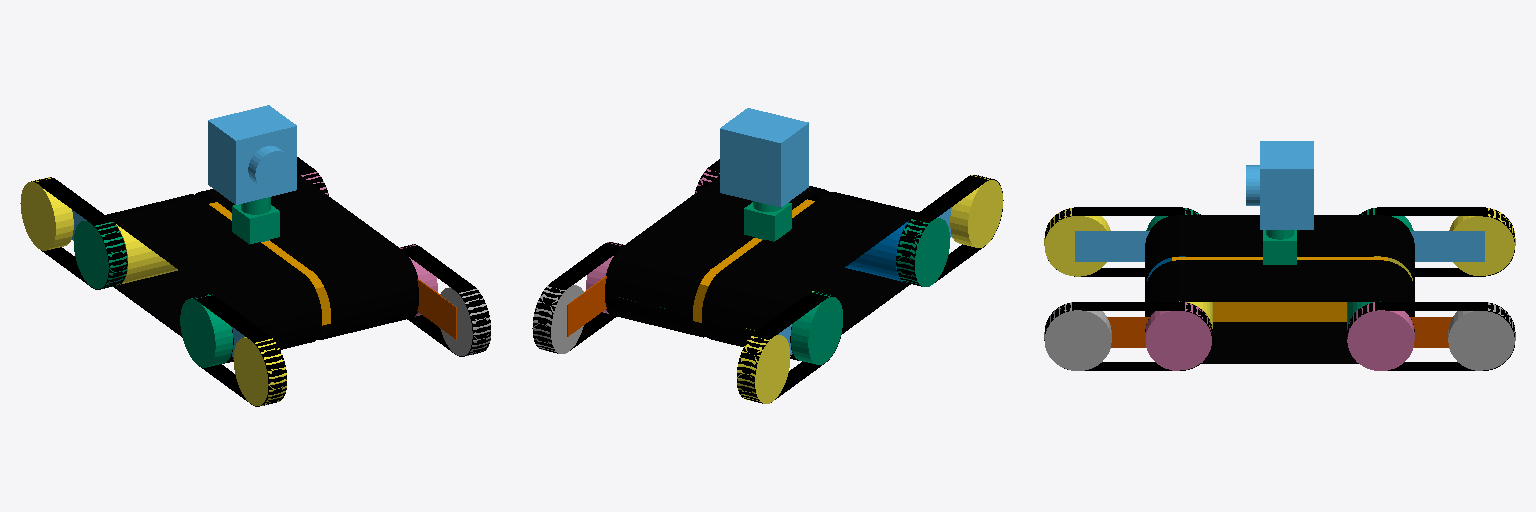
--- Facts derived from the render (not from the file) ---
3 views of the same robot in one strip: view 1: azimuth 30°, elevation 25°; view 2: azimuth 150°, elevation 25°; view 3: azimuth 270°, elevation 25° (orthographic).
Model robot with 33 links and 32 joints (32 fixed), rooted at robot__base_link, posed every joint at zero.
Links seen in each view (by area): view 1: robot__base_link, robot__camera_link, robot__left_front_arm, robot__right_front_arm, robot__right_rear_arm, robot__right_rear_arm_wheel_2, robot__right_front_arm_wheel_1, robot__right_rear_arm_wheel_1, robot__right_front_arm_wheel_2, robot__houkyo_link, robot__left_front_arm_wheel_2, robot__right_rear_wheel; view 2: robot__base_link, robot__camera_link, robot__left_rear_arm, robot__right_rear_arm, robot__right_front_arm, robot__right_front_arm_wheel_2, robot__right_rear_arm_wheel_1, robot__right_front_arm_wheel_1, robot__right_rear_arm_wheel_2, robot__houkyo_link, robot__left_rear_arm_wheel_2, robot__right_front_wheel; view 3: robot__base_link, robot__camera_link, robot__right_rear_arm, robot__right_front_arm, robot__left_rear_arm_wheel_1, robot__left_front_arm_wheel_2, robot__left_rear_arm_wheel_2, robot__left_front_arm_wheel_1, robot__left_front_arm, robot__left_rear_arm, robot__right_front_arm_wheel_2, robot__right_rear_arm_wheel_2 (+1 smaller).
Boxes of the visible links, bbox=[...] form: robot__base_link: bbox=[106, 173, 418, 363]; robot__camera_link: bbox=[208, 105, 296, 204]; robot__left_front_arm: bbox=[401, 244, 490, 356]; robot__right_front_arm: bbox=[193, 294, 286, 406]; robot__right_rear_arm: bbox=[31, 177, 127, 289]; robot__right_rear_arm_wheel_2: bbox=[20, 177, 73, 250]; robot__right_front_arm_wheel_1: bbox=[180, 294, 232, 367]; robot__right_rear_arm_wheel_1: bbox=[74, 220, 127, 288]; robot__right_front_arm_wheel_2: bbox=[233, 337, 286, 405]; robot__houkyo_link: bbox=[232, 197, 279, 244]; robot__left_front_arm_wheel_2: bbox=[440, 287, 490, 355]; robot__right_rear_wheel: bbox=[116, 224, 177, 284]; robot__base_link: bbox=[605, 176, 918, 360]; robot__camera_link: bbox=[720, 108, 808, 207]; robot__left_rear_arm: bbox=[532, 242, 623, 353]; robot__right_rear_arm: bbox=[737, 292, 843, 403]; robot__right_front_arm: bbox=[896, 175, 1003, 286]; robot__right_front_arm_wheel_2: bbox=[950, 175, 1002, 247]; robot__right_rear_arm_wheel_1: bbox=[791, 291, 842, 364]; robot__right_front_arm_wheel_1: bbox=[896, 218, 949, 286]; robot__right_rear_arm_wheel_2: bbox=[737, 335, 790, 403]; robot__houkyo_link: bbox=[744, 201, 791, 241]; robot__left_rear_arm_wheel_2: bbox=[533, 285, 583, 353]; robot__right_front_wheel: bbox=[845, 221, 908, 281]; robot__base_link: bbox=[1145, 215, 1414, 363]; robot__camera_link: bbox=[1246, 141, 1313, 229]; robot__right_rear_arm: bbox=[1359, 207, 1514, 276]; robot__right_front_arm: bbox=[1045, 207, 1200, 276]; robot__left_rear_arm_wheel_1: bbox=[1347, 302, 1414, 370]; robot__left_front_arm_wheel_2: bbox=[1044, 302, 1111, 370]; robot__left_rear_arm_wheel_2: bbox=[1448, 302, 1515, 370]; robot__left_front_arm_wheel_1: bbox=[1145, 302, 1211, 370]; robot__left_front_arm: bbox=[1044, 302, 1212, 370]; robot__left_rear_arm: bbox=[1347, 302, 1515, 370]; robot__right_front_arm_wheel_2: bbox=[1044, 208, 1110, 276]; robot__right_rear_arm_wheel_2: bbox=[1449, 208, 1515, 275].
Bounding box of the posed robot: 0.3622 × 0.7 × 0.271 m (x, y, z).
Meshes: 2 distinct files referenced, 6 mesh visuals loaded (2 Collada DAE).

URDF robot description (robot):
<?xml version="1.0" ?>
<robot name="robot">
  <joint name="robot__camera_joint" type="fixed">
    <parent link="robot__base_link"/>
    <child link="robot__camera_link"/>
    <origin rpy="0    0   -1.57" xyz="0    0    0.22"/>
    <axis xyz="0  0  1"/>
    <limit effort="0.0" lower="0.0" upper="0.0" velocity="0.0"/>
  </joint>
  <joint name="robot__hokuyo_joint" type="fixed">
    <parent link="robot__base_link"/>
    <child link="robot__houkyo_link"/>
    <origin rpy="0    0   -1.57" xyz="0     0     0.135"/>
    <axis xyz="0  0  1"/>
    <limit effort="0.0" lower="0.0" upper="0.0" velocity="0.0"/>
  </joint>
  <joint name="robot__right_rear" type="fixed">
    <parent link="robot__base_link"/>
    <child link="robot__right_rear_wheel"/>
    <origin rpy="3.14159  1.57079  3.14159" xyz="-0.05  0.15  0.05"/>
    <axis xyz="0  0  1"/>
    <limit effort="0" lower="0" upper="0" velocity="0"/>
  </joint>
  <joint name="robot__right_front" type="fixed">
    <parent link="robot__base_link"/>
    <child link="robot__right_front_wheel"/>
    <origin rpy="3.14159  1.57079  3.14159" xyz="-0.05 -0.15  0.05"/>
    <axis xyz="0  0  1"/>
    <limit effort="0" lower="0" upper="0" velocity="0"/>
  </joint>
  <joint name="robot__right_center1" type="fixed">
    <parent link="robot__base_link"/>
    <child link="robot__right_center_wheel_1"/>
    <origin rpy="3.14159  1.57079  3.14159" xyz="-0.05  0.05  0.05"/>
    <axis xyz="0  0  1"/>
    <limit effort="0" lower="0" upper="0" velocity="0"/>
  </joint>
  <joint name="robot__right_center2" type="fixed">
    <parent link="robot__base_link"/>
    <child link="robot__right_center_wheel_2"/>
    <origin rpy="3.14159  1.57079  3.14159" xyz="-0.05   0     0.049"/>
    <axis xyz="0  0  1"/>
    <limit effort="0" lower="0" upper="0" velocity="0"/>
  </joint>
  <joint name="robot__right_center3" type="fixed">
    <parent link="robot__base_link"/>
    <child link="robot__right_center_wheel_3"/>
    <origin rpy="3.14159  1.57079  3.14159" xyz="-0.05 -0.05  0.05"/>
    <axis xyz="0  0  1"/>
    <limit effort="0" lower="0" upper="0" velocity="0"/>
  </joint>
  <joint name="robot__right_sub2" type="fixed">
    <parent link="robot__base_link"/>
    <child link="robot__right_sub_wheel_2"/>
    <origin rpy="3.14159  1.57079  3.14159" xyz="-0.15  0.1   0.05"/>
    <axis xyz="0  0  1"/>
    <limit effort="0" lower="0" upper="0" velocity="0"/>
  </joint>
  <joint name="robot__right_sub3" type="fixed">
    <parent link="robot__base_link"/>
    <child link="robot__right_sub_wheel_3"/>
    <origin rpy="3.14159  1.57079  3.14159" xyz="-0.15 -0.1   0.05"/>
    <axis xyz="0  0  1"/>
    <limit effort="0" lower="0" upper="0" velocity="0"/>
  </joint>
  <joint name="robot__left_rear" type="fixed">
    <parent link="robot__base_link"/>
    <child link="robot__left_rear_wheel"/>
    <origin rpy="3.14159  1.57079  3.14159" xyz="0.05  0.15  0.05"/>
    <axis xyz="0  0  1"/>
    <limit effort="0" lower="0" upper="0" velocity="0"/>
  </joint>
  <joint name="robot__left_front" type="fixed">
    <parent link="robot__base_link"/>
    <child link="robot__left_front_wheel"/>
    <origin rpy="3.14159  1.57079  3.14159" xyz="0.05 -0.15  0.05"/>
    <axis xyz="0  0  1"/>
    <limit effort="0" lower="0" upper="0" velocity="0"/>
  </joint>
  <joint name="robot__left_center1" type="fixed">
    <parent link="robot__base_link"/>
    <child link="robot__left_center_wheel_1"/>
    <origin rpy="3.14159  1.57079  3.14159" xyz="0.05  0.05  0.05"/>
    <axis xyz="0  0  1"/>
    <limit effort="0" lower="0" upper="0" velocity="0"/>
  </joint>
  <joint name="robot__left_center2" type="fixed">
    <parent link="robot__base_link"/>
    <child link="robot__left_center_wheel_2"/>
    <origin rpy="3.14159  1.57079  3.14159" xyz="0.05   0     0.049"/>
    <axis xyz="0  0  1"/>
    <limit effort="0" lower="0" upper="0" velocity="0"/>
  </joint>
  <joint name="robot__left_center3" type="fixed">
    <parent link="robot__base_link"/>
    <child link="robot__left_center_wheel_3"/>
    <origin rpy="3.14159  1.57079  3.14159" xyz="0.05 -0.05  0.05"/>
    <axis xyz="0  0  1"/>
    <limit effort="0" lower="0" upper="0" velocity="0"/>
  </joint>
  <joint name="robot__left_sub2" type="fixed">
    <parent link="robot__base_link"/>
    <child link="robot__left_sub_wheel_2"/>
    <origin rpy="3.14159  1.57079  3.14159" xyz="0.05  0.1   0.05"/>
    <axis xyz="0  0  1"/>
    <limit effort="0" lower="0" upper="0" velocity="0"/>
  </joint>
  <joint name="robot__left_sub3" type="fixed">
    <parent link="robot__base_link"/>
    <child link="robot__left_sub_wheel_3"/>
    <origin rpy="3.14159  1.57079  3.14159" xyz="0.05 -0.1   0.05"/>
    <axis xyz="0  0  1"/>
    <limit effort="0" lower="0" upper="0" velocity="0"/>
  </joint>
  <joint name="robot__left_rear_arm" type="fixed">
    <parent link="robot__base_link"/>
    <child link="robot__left_rear_arm"/>
    <origin rpy="0  0  0" xyz="0.151  0.15   0.051"/>
    <axis xyz="1  0  0"/>
    <limit effort="0.0" lower="0.0" upper="0.0" velocity="1.0"/>
  </joint>
  <joint name="robot__right_rear_arm" type="fixed">
    <parent link="robot__base_link"/>
    <child link="robot__right_rear_arm"/>
    <origin rpy="0  0  0" xyz="-0.151  0.15   0.049"/>
    <axis xyz="1  0  0"/>
    <limit effort="0.0" lower="0.0" upper="0.0" velocity="1.0"/>
  </joint>
  <joint name="robot__left_front_arm" type="fixed">
    <parent link="robot__base_link"/>
    <child link="robot__left_front_arm"/>
    <origin rpy="0  0  0" xyz="0.151 -0.15   0.051"/>
    <axis xyz="1  0  0"/>
    <limit effort="0.0" lower="0.0" upper="0.0" velocity="1.0"/>
  </joint>
  <joint name="robot__right_front_arm" type="fixed">
    <parent link="robot__base_link"/>
    <child link="robot__right_front_arm"/>
    <origin rpy="0  0  0" xyz="-0.151 -0.15   0.049"/>
    <axis xyz="1  0  0"/>
    <limit effort="0.0" lower="0.0" upper="0.0" velocity="1.0"/>
  </joint>
  <joint name="robot__right_rear_arm_wheel_1" type="fixed">
    <parent link="robot__right_rear_arm"/>
    <child link="robot__right_rear_arm_wheel_1"/>
    <origin rpy="3.14159  1.57079  3.14159" xyz="0     0     0.001"/>
    <axis xyz="0  0  1"/>
    <limit effort="0" lower="0" upper="0" velocity="0"/>
  </joint>
  <joint name="robot__right_rear_arm_wheel_2" type="fixed">
    <parent link="robot__right_rear_arm"/>
    <child link="robot__right_rear_arm_wheel_2"/>
    <origin rpy="3.14159  1.57079  3.14159" xyz="0     0.15   0.001"/>
    <axis xyz="0  0  1"/>
    <limit effort="0" lower="0" upper="0" velocity="0"/>
  </joint>
  <joint name="robot__right_rear_arm_wheel_3" type="fixed">
    <parent link="robot__right_rear_arm"/>
    <child link="robot__right_rear_arm_wheel_3"/>
    <origin rpy="3.14159  1.57079  3.14159" xyz="0     0.075  0.001"/>
    <axis xyz="0  0  1"/>
    <limit effort="0" lower="0" upper="0" velocity="0"/>
  </joint>
  <joint name="robot__right_front_arm_wheel_1" type="fixed">
    <parent link="robot__right_front_arm"/>
    <child link="robot__right_front_arm_wheel_1"/>
    <origin rpy="3.14159  1.57079  3.14159" xyz="0     0     0.001"/>
    <axis xyz="0  0  1"/>
    <limit effort="0" lower="0" upper="0" velocity="0"/>
  </joint>
  <joint name="robot__right_front_arm_wheel_2" type="fixed">
    <parent link="robot__right_front_arm"/>
    <child link="robot__right_front_arm_wheel_2"/>
    <origin rpy="3.14159  1.57079  3.14159" xyz="0    -0.15   0.001"/>
    <axis xyz="0  0  1"/>
    <limit effort="0" lower="0" upper="0" velocity="0"/>
  </joint>
  <joint name="robot__right_front_arm_wheel_3" type="fixed">
    <parent link="robot__right_front_arm"/>
    <child link="robot__right_front_arm_wheel_3"/>
    <origin rpy="3.14159  1.57079  3.14159" xyz="0    -0.075  0.001"/>
    <axis xyz="0  0  1"/>
    <limit effort="0" lower="0" upper="0" velocity="0"/>
  </joint>
  <joint name="robot__left_rear_arm_wheel_1" type="fixed">
    <parent link="robot__left_rear_arm"/>
    <child link="robot__left_rear_arm_wheel_1"/>
    <origin rpy="3.14159  1.57079  3.14159" xyz="0     0    -0.001"/>
    <axis xyz="0  0  1"/>
    <limit effort="0" lower="0" upper="0" velocity="0"/>
  </joint>
  <joint name="robot__left_rear_arm_wheel_2" type="fixed">
    <parent link="robot__left_rear_arm"/>
    <child link="robot__left_rear_arm_wheel_2"/>
    <origin rpy="3.14159  1.57079  3.14159" xyz="0     0.15  -0.001"/>
    <axis xyz="0  0  1"/>
    <limit effort="0" lower="0" upper="0" velocity="0"/>
  </joint>
  <joint name="robot__left_rear_arm_wheel_3" type="fixed">
    <parent link="robot__left_rear_arm"/>
    <child link="robot__left_rear_arm_wheel_3"/>
    <origin rpy="3.14159  1.57079  3.14159" xyz="0     0.075 -0.001"/>
    <axis xyz="0  0  1"/>
    <limit effort="0" lower="0" upper="0" velocity="0"/>
  </joint>
  <joint name="robot__left_front_arm_wheel_1" type="fixed">
    <parent link="robot__left_front_arm"/>
    <child link="robot__left_front_arm_wheel_1"/>
    <origin rpy="3.14159  1.57079  3.14159" xyz="0     0    -0.001"/>
    <axis xyz="0  0  1"/>
    <limit effort="0" lower="0" upper="0" velocity="0"/>
  </joint>
  <joint name="robot__left_front_arm_wheel_2" type="fixed">
    <parent link="robot__left_front_arm"/>
    <child link="robot__left_front_arm_wheel_2"/>
    <origin rpy="3.14159  1.57079  3.14159" xyz="0    -0.15  -0.001"/>
    <axis xyz="0  0  1"/>
    <limit effort="0" lower="0" upper="0" velocity="0"/>
  </joint>
  <joint name="robot__left_front_arm_wheel_3" type="fixed">
    <parent link="robot__left_front_arm"/>
    <child link="robot__left_front_arm_wheel_3"/>
    <origin rpy="3.14159  1.57079  3.14159" xyz="0    -0.075 -0.001"/>
    <axis xyz="0  0  1"/>
    <limit effort="0" lower="0" upper="0" velocity="0"/>
  </joint>
  <link name="robot__base_link">
    <inertial>
      <mass value="20"/>
      <origin rpy="0  0  0" xyz="0    0    0.05"/>
      <inertia ixx="1.696e-01" ixy="0" ixz="0" iyy="2.176e-02" iyz="0" izz="1.7984e-01"/>
    </inertial>
    <collision name="robot__collision">
      <origin rpy="0  0  0" xyz="0    0    0.05"/>
      <geometry>
        <box size=".1 .32 .06"/>
      </geometry>
    </collision>
    <visual name="robot__visual">
      <origin rpy="0  0  0" xyz="0    0    0.05"/>
      <geometry>
        <box size=".1 .32 .06"/>
      </geometry>
    </visual>
    <visual name="robot__crawler_visual_R">
      <origin rpy="0       0       1.57079" xyz="-0.08    -0.00075  0.05"/>
      <geometry>
        <mesh filename="package://crawler_robot_ros/meshes/crawler_robot_ros/crawler.dae" scale="1.0 1.0 1.0"/>
      </geometry>
    </visual>
    <visual name="robot__crawler_visual_L">
      <origin rpy="0       0       1.57079" xyz="0.08    -0.00075  0.05"/>
      <geometry>
        <mesh filename="package://crawler_robot_ros/meshes/crawler_robot_ros/crawler.dae" scale="1.0 1.0 1.0"/>
      </geometry>
    </visual>
  </link>
  <link name="robot__camera_link">
    <inertial>
      <mass value="0.1"/>
      <origin rpy="0  0  0" xyz="0  0  0"/>
      <inertia ixx="0.000166667" ixy="0" ixz="0" iyy="0.000166667" iyz="0" izz="0.000166667"/>
    </inertial>
    <collision name="robot__collision-box">
      <origin rpy="0  0  0" xyz="-0.01  0    0"/>
      <geometry>
        <box size="0.08 0.1 0.1"/>
      </geometry>
    </collision>
    <collision name="robot__collision-lens">
      <origin rpy="0    1.57  0" xyz="0.04  0    0"/>
      <geometry>
        <cylinder length="0.02" radius="0.03"/>
      </geometry>
    </collision>
    <visual name="robot__visual-box">
      <origin rpy="0  0  0" xyz="-0.01  0    0"/>
      <geometry>
        <box size="0.08 0.1 0.1"/>
      </geometry>
    </visual>
    <visual name="robot__visual-lens">
      <origin rpy="0    1.57  0" xyz="0.04  0    0"/>
      <geometry>
        <cylinder length="0.02" radius="0.03"/>
      </geometry>
    </visual>
  </link>
  <link name="robot__houkyo_link">
    <inertial>
      <mass value="0.1"/>
      <origin rpy="0  0  0" xyz="0  0  0"/>
      <inertia ixx="0.6205208333e-04" ixy="0" ixz="0" iyy="0.6205208333e-04" iyz="0" izz="4.1927083333e-05"/>
    </inertial>
    <collision name="robot__collision-base">
      <origin rpy="0  0  0" xyz="0      0     -0.0145"/>
      <geometry>
        <box size="0.05 0.05 0.041"/>
      </geometry>
    </collision>
    <collision name="robot__collision-top">
      <origin rpy="0  0  0" xyz="0      0      0.0205"/>
      <geometry>
        <cylinder length="0.029" radius="0.021"/>
      </geometry>
    </collision>
    <visual name="robot__visual-base">
      <origin rpy="0  0  0" xyz="0      0     -0.0145"/>
      <geometry>
        <box size="0.05 0.05 0.041"/>
      </geometry>
    </visual>
    <visual name="robot__visual-top">
      <origin rpy="0  0  0" xyz="0      0      0.0205"/>
      <geometry>
        <cylinder length="0.029" radius="0.021"/>
      </geometry>
    </visual>
  </link>
  <link name="robot__right_rear_wheel">
    <inertial>
      <mass value="1.0"/>
      <origin rpy="0  0  0" xyz="0    0   -0.05"/>
      <inertia ixx="1.3744467859e-03" ixy="0" ixz="0" iyy="1.3744467859e-03" iyz="0" izz="11.780972451e-04"/>
    </inertial>
    <collision name="robot__collision">
      <origin rpy="0  0  0" xyz="0    0   -0.05"/>
      <geometry>
        <cylinder length=".1" radius=".05"/>
      </geometry>
    </collision>
    <visual name="robot__visual">
      <origin rpy="0  0  0" xyz="0    0   -0.05"/>
      <geometry>
        <cylinder length=".1" radius=".05"/>
      </geometry>
    </visual>
  </link>
  <link name="robot__right_front_wheel">
    <inertial>
      <mass value="1.0"/>
      <origin rpy="0  0  0" xyz="0    0   -0.05"/>
      <inertia ixx="1.3744467859e-03" ixy="0" ixz="0" iyy="1.3744467859e-03" iyz="0" izz="11.780972451e-04"/>
    </inertial>
    <collision name="robot__collision">
      <origin rpy="0  0  0" xyz="0    0   -0.05"/>
      <geometry>
        <cylinder length=".1" radius=".05"/>
      </geometry>
    </collision>
    <visual name="robot__visual">
      <origin rpy="0  0  0" xyz="0    0   -0.05"/>
      <geometry>
        <cylinder length=".1" radius=".05"/>
      </geometry>
    </visual>
  </link>
  <link name="robot__right_center_wheel_1">
    <inertial>
      <mass value="1.0"/>
      <origin rpy="0  0  0" xyz="0    0   -0.05"/>
      <inertia ixx="7.5267323992e-04" ixy="0" ixz="0" iyy="7.5267323992e-04" iyz="0" izz="11.2900985988e-04"/>
    </inertial>
    <collision name="robot__collision">
      <origin rpy="0  0  0" xyz="0    0   -0.05"/>
      <geometry>
        <cylinder length=".05" radius=".05"/>
      </geometry>
    </collision>
  </link>
  <link name="robot__right_center_wheel_2">
    <inertial>
      <mass value="1.0"/>
      <origin rpy="0  0  0" xyz="0    0   -0.05"/>
      <inertia ixx="7.5267323992e-04" ixy="0" ixz="0" iyy="7.5267323992e-04" iyz="0" izz="11.2900985988e-04"/>
    </inertial>
    <collision name="robot__collision">
      <origin rpy="0  0  0" xyz="0    0   -0.05"/>
      <geometry>
        <cylinder length=".05" radius=".05"/>
      </geometry>
    </collision>
  </link>
  <link name="robot__right_center_wheel_3">
    <inertial>
      <mass value="1.0"/>
      <origin rpy="0  0  0" xyz="0    0   -0.05"/>
      <inertia ixx="7.5267323992e-04" ixy="0" ixz="0" iyy="7.5267323992e-04" iyz="0" izz="11.2900985988e-04"/>
    </inertial>
    <collision name="robot__collision">
      <origin rpy="0  0  0" xyz="0    0   -0.05"/>
      <geometry>
        <cylinder length=".05" radius=".05"/>
      </geometry>
    </collision>
  </link>
  <link name="robot__right_sub_wheel_2">
    <inertial>
      <mass value="1.0"/>
      <origin rpy="0  0  0" xyz="0    0    0.05"/>
      <inertia ixx="1.3744467859e-03" ixy="0" ixz="0" iyy="1.3744467859e-03" iyz="0" izz="11.780972451e-04"/>
    </inertial>
    <collision name="robot__collision">
      <origin rpy="0  0  0" xyz="0    0    0.05"/>
      <geometry>
        <cylinder length=".1" radius=".05"/>
      </geometry>
    </collision>
  </link>
  <link name="robot__right_sub_wheel_3">
    <inertial>
      <mass value="1.0"/>
      <origin rpy="0  0  0" xyz="0    0    0.05"/>
      <inertia ixx="1.3744467859e-03" ixy="0" ixz="0" iyy="1.3744467859e-03" iyz="0" izz="11.780972451e-04"/>
    </inertial>
    <collision name="robot__collision">
      <origin rpy="0  0  0" xyz="0    0    0.05"/>
      <geometry>
        <cylinder length=".1" radius=".05"/>
      </geometry>
    </collision>
  </link>
  <link name="robot__left_rear_wheel">
    <inertial>
      <mass value="1.0"/>
      <origin rpy="0  0  0" xyz="0    0    0.05"/>
      <inertia ixx="1.3744467859e-03" ixy="0" ixz="0" iyy="1.3744467859e-03" iyz="0" izz="11.780972451e-04"/>
    </inertial>
    <collision name="robot__collision">
      <origin rpy="0  0  0" xyz="0    0    0.05"/>
      <geometry>
        <cylinder length=".1" radius=".05"/>
      </geometry>
    </collision>
    <visual name="robot__visual">
      <origin rpy="0  0  0" xyz="0    0    0.05"/>
      <geometry>
        <cylinder length=".1" radius=".05"/>
      </geometry>
    </visual>
  </link>
  <link name="robot__left_front_wheel">
    <inertial>
      <mass value="1.0"/>
      <origin rpy="0  0  0" xyz="0    0    0.05"/>
      <inertia ixx="1.3744467859e-03" ixy="0" ixz="0" iyy="1.3744467859e-03" iyz="0" izz="11.780972451e-04"/>
    </inertial>
    <collision name="robot__collision">
      <origin rpy="0  0  0" xyz="0    0    0.05"/>
      <geometry>
        <cylinder length=".1" radius=".05"/>
      </geometry>
    </collision>
    <visual name="robot__visual">
      <origin rpy="0  0  0" xyz="0    0    0.05"/>
      <geometry>
        <cylinder length=".1" radius=".05"/>
      </geometry>
    </visual>
  </link>
  <link name="robot__left_center_wheel_1">
    <inertial>
      <mass value="1.0"/>
      <origin rpy="0  0  0" xyz="0    0    0.05"/>
      <inertia ixx="7.5267323992e-04" ixy="0" ixz="0" iyy="7.5267323992e-04" iyz="0" izz="11.2900985988e-04"/>
    </inertial>
    <collision name="robot__collision">
      <origin rpy="0  0  0" xyz="0    0    0.05"/>
      <geometry>
        <cylinder length=".05" radius=".05"/>
      </geometry>
    </collision>
  </link>
  <link name="robot__left_center_wheel_2">
    <inertial>
      <mass value="1.0"/>
      <origin rpy="0  0  0" xyz="0    0    0.05"/>
      <inertia ixx="7.5267323992e-04" ixy="0" ixz="0" iyy="7.5267323992e-04" iyz="0" izz="11.2900985988e-04"/>
    </inertial>
    <collision name="robot__collision">
      <origin rpy="0  0  0" xyz="0    0    0.05"/>
      <geometry>
        <cylinder length=".05" radius=".05"/>
      </geometry>
    </collision>
  </link>
  <link name="robot__left_center_wheel_3">
    <inertial>
      <mass value="1.0"/>
      <origin rpy="0  0  0" xyz="0    0    0.05"/>
      <inertia ixx="7.5267323992e-04" ixy="0" ixz="0" iyy="7.5267323992e-04" iyz="0" izz="11.2900985988e-04"/>
    </inertial>
    <collision name="robot__collision">
      <origin rpy="0  0  0" xyz="0    0    0.05"/>
      <geometry>
        <cylinder length=".05" radius=".05"/>
      </geometry>
    </collision>
  </link>
  <link name="robot__left_sub_wheel_2">
    <inertial>
      <mass value="1.0"/>
      <origin rpy="0  0  0" xyz="0    0    0.05"/>
      <inertia ixx="1.3744467859e-03" ixy="0" ixz="0" iyy="1.3744467859e-03" iyz="0" izz="11.780972451e-04"/>
    </inertial>
    <collision name="robot__collision">
      <origin rpy="0  0  0" xyz="0    0    0.05"/>
      <geometry>
        <cylinder length=".1" radius=".05"/>
      </geometry>
    </collision>
  </link>
  <link name="robot__left_sub_wheel_3">
    <inertial>
      <mass value="1.0"/>
      <origin rpy="0  0  0" xyz="0    0    0.05"/>
      <inertia ixx="1.3744467859e-03" ixy="0" ixz="0" iyy="1.3744467859e-03" iyz="0" izz="11.780972451e-04"/>
    </inertial>
    <collision name="robot__collision">
      <origin rpy="0  0  0" xyz="0    0    0.05"/>
      <geometry>
        <cylinder length=".1" radius=".05"/>
      </geometry>
    </collision>
  </link>
  <link name="robot__right_rear_arm">
    <inertial>
      <mass value="1.0"/>
      <origin rpy="1.57  0    1.57" xyz="-0.015  0.075  0.001"/>
      <inertia ixx="6.8125e-4" ixy="0" ixz="0" iyy="3.96253e-3" iyz="0" izz="4.53125e-3"/>
    </inertial>
    <visual name="robot__visual">
      <origin rpy="0  0  0" xyz="0     0.075  0.001"/>
      <geometry>
        <box size=".002 .16 .05"/>
      </geometry>
    </visual>
    <visual name="robot__crawler_visual">
      <origin rpy="0    0    1.57" xyz="-0.015  0.075 -0.049"/>
      <geometry>
        <mesh filename="package://crawler_robot_ros/meshes/crawler_robot_ros/arm_crawler_2.dae" scale="1.0 1.0 1.0"/>
      </geometry>
    </visual>
  </link>
  <link name="robot__right_rear_arm_wheel_1">
    <inertial>
      <mass value="1.0"/>
      <origin rpy="0  0  0" xyz="0     0    -0.015"/>
      <inertia ixx="6.2674773439e-04" ixy="0" ixz="0" iyy="6.2674773439e-04" iyz="0" izz="11.1919238284e-04"/>
    </inertial>
    <collision name="robot__collision">
      <origin rpy="0  0  0" xyz="0     0    -0.015"/>
      <geometry>
        <cylinder length=".03" radius=".05"/>
      </geometry>
    </collision>
    <visual name="robot__visual">
      <origin rpy="0  0  0" xyz="0     0    -0.015"/>
      <geometry>
        <cylinder length=".03" radius=".05"/>
      </geometry>
    </visual>
  </link>
  <link name="robot__right_rear_arm_wheel_2">
    <inertial>
      <mass value="1.0"/>
      <origin rpy="0  0  0" xyz="0     0    -0.015"/>
      <inertia ixx="6.2674773439e-04" ixy="0" ixz="0" iyy="6.2674773439e-04" iyz="0" izz="11.1919238284e-04"/>
    </inertial>
    <collision name="robot__collision">
      <origin rpy="0  0  0" xyz="0     0    -0.015"/>
      <geometry>
        <cylinder length=".03" radius=".05"/>
      </geometry>
    </collision>
    <visual name="robot__visual">
      <origin rpy="0  0  0" xyz="0     0    -0.015"/>
      <geometry>
        <cylinder length=".03" radius=".05"/>
      </geometry>
    </visual>
  </link>
  <link name="robot__right_rear_arm_wheel_3">
    <inertial>
      <mass value="1.0"/>
      <origin rpy="0  0  0" xyz="0     0    -0.015"/>
      <inertia ixx="6.2674773439e-04" ixy="0" ixz="0" iyy="6.2674773439e-04" iyz="0" izz="11.1919238284e-04"/>
    </inertial>
    <collision name="robot__collision">
      <origin rpy="0  0  0" xyz="0     0    -0.015"/>
      <geometry>
        <cylinder length=".03" radius=".05"/>
      </geometry>
    </collision>
  </link>
  <link name="robot__left_rear_arm">
    <inertial>
      <mass value="1.0"/>
      <origin rpy="1.57  0    1.57" xyz="0.015  0.075 -0.001"/>
      <inertia ixx="6.8125e-4" ixy="0" ixz="0" iyy="3.96253e-3" iyz="0" izz="4.53125e-3"/>
    </inertial>
    <visual name="robot__visual">
      <origin rpy="0  0  0" xyz="0     0.075 -0.001"/>
      <geometry>
        <box size=".002 .16 .05"/>
      </geometry>
    </visual>
    <visual name="robot__crawler_visual">
      <origin rpy="0    0    1.57" xyz="0.015  0.075 -0.051"/>
      <geometry>
        <mesh filename="package://crawler_robot_ros/meshes/crawler_robot_ros/arm_crawler_2.dae" scale="1.0 1.0 1.0"/>
      </geometry>
    </visual>
  </link>
  <link name="robot__left_rear_arm_wheel_1">
    <inertial>
      <mass value="1.0"/>
      <origin rpy="0  0  0" xyz="0     0     0.015"/>
      <inertia ixx="6.2674773439e-04" ixy="0" ixz="0" iyy="6.2674773439e-04" iyz="0" izz="11.1919238284e-04"/>
    </inertial>
    <collision name="robot__collision">
      <origin rpy="0  0  0" xyz="0     0     0.015"/>
      <geometry>
        <cylinder length=".03" radius=".05"/>
      </geometry>
    </collision>
    <visual name="robot__visual">
      <origin rpy="0  0  0" xyz="0     0     0.015"/>
      <geometry>
        <cylinder length=".03" radius=".05"/>
      </geometry>
    </visual>
  </link>
  <link name="robot__left_rear_arm_wheel_2">
    <inertial>
      <mass value="1.0"/>
      <origin rpy="0  0  0" xyz="0     0     0.015"/>
      <inertia ixx="6.2674773439e-04" ixy="0" ixz="0" iyy="6.2674773439e-04" iyz="0" izz="11.1919238284e-04"/>
    </inertial>
    <collision name="robot__collision">
      <origin rpy="0  0  0" xyz="0     0     0.015"/>
      <geometry>
        <cylinder length=".03" radius=".05"/>
      </geometry>
    </collision>
    <visual name="robot__visual">
      <origin rpy="0  0  0" xyz="0     0     0.015"/>
      <geometry>
        <cylinder length=".03" radius=".05"/>
      </geometry>
    </visual>
  </link>
  <link name="robot__left_rear_arm_wheel_3">
    <inertial>
      <mass value="1.0"/>
      <origin rpy="0  0  0" xyz="0     0     0.015"/>
      <inertia ixx="6.2674773439e-04" ixy="0" ixz="0" iyy="6.2674773439e-04" iyz="0" izz="11.1919238284e-04"/>
    </inertial>
    <collision name="robot__collision">
      <origin rpy="0  0  0" xyz="0     0     0.015"/>
      <geometry>
        <cylinder length=".03" radius=".05"/>
      </geometry>
    </collision>
  </link>
  <link name="robot__right_front_arm">
    <inertial>
      <mass value="1.0"/>
      <origin rpy="1.57  0    1.57" xyz="-0.015 -0.075  0.001"/>
      <inertia ixx="6.8125e-4" ixy="0" ixz="0" iyy="3.96253e-3" iyz="0" izz="4.53125e-3"/>
    </inertial>
    <visual name="robot__visual">
      <origin rpy="0  0  0" xyz="0    -0.075  0.001"/>
      <geometry>
        <box size=".002 .16 .05"/>
      </geometry>
    </visual>
    <visual name="robot__crawler_visual">
      <origin rpy="0    0    1.57" xyz="-0.015 -0.075 -0.049"/>
      <geometry>
        <mesh filename="package://crawler_robot_ros/meshes/crawler_robot_ros/arm_crawler_2.dae" scale="1.0 1.0 1.0"/>
      </geometry>
    </visual>
  </link>
  <link name="robot__right_front_arm_wheel_1">
    <inertial>
      <mass value="1.0"/>
      <origin rpy="0  0  0" xyz="0     0    -0.015"/>
      <inertia ixx="6.2674773439e-04" ixy="0" ixz="0" iyy="6.2674773439e-04" iyz="0" izz="11.1919238284e-04"/>
    </inertial>
    <collision name="robot__collision">
      <origin rpy="0  0  0" xyz="0     0    -0.015"/>
      <geometry>
        <cylinder length=".03" radius=".05"/>
      </geometry>
    </collision>
    <visual name="robot__visual">
      <origin rpy="0  0  0" xyz="0     0    -0.015"/>
      <geometry>
        <cylinder length=".03" radius=".05"/>
      </geometry>
    </visual>
  </link>
  <link name="robot__right_front_arm_wheel_2">
    <inertial>
      <mass value="1.0"/>
      <origin rpy="0  0  0" xyz="0     0    -0.015"/>
      <inertia ixx="6.2674773439e-04" ixy="0" ixz="0" iyy="6.2674773439e-04" iyz="0" izz="11.1919238284e-04"/>
    </inertial>
    <collision name="robot__collision">
      <origin rpy="0  0  0" xyz="0     0    -0.015"/>
      <geometry>
        <cylinder length=".03" radius=".05"/>
      </geometry>
    </collision>
    <visual name="robot__visual">
      <origin rpy="0  0  0" xyz="0     0    -0.015"/>
      <geometry>
        <cylinder length=".03" radius=".05"/>
      </geometry>
    </visual>
  </link>
  <link name="robot__right_front_arm_wheel_3">
    <inertial>
      <mass value="1.0"/>
      <origin rpy="0  0  0" xyz="0     0    -0.015"/>
      <inertia ixx="6.2674773439e-04" ixy="0" ixz="0" iyy="6.2674773439e-04" iyz="0" izz="11.1919238284e-04"/>
    </inertial>
    <collision name="robot__collision">
      <origin rpy="0  0  0" xyz="0     0    -0.015"/>
      <geometry>
        <cylinder length=".03" radius=".05"/>
      </geometry>
    </collision>
  </link>
  <link name="robot__left_front_arm">
    <inertial>
      <mass value="1.0"/>
      <origin rpy="1.57  0    1.57" xyz="0.015 -0.075 -0.001"/>
      <inertia ixx="6.8125e-4" ixy="0" ixz="0" iyy="3.96253e-3" iyz="0" izz="4.53125e-3"/>
    </inertial>
    <visual name="robot__visual">
      <origin rpy="0  0  0" xyz="0    -0.075 -0.001"/>
      <geometry>
        <box size=".002 .16 .05"/>
      </geometry>
    </visual>
    <visual name="robot__crawler_visual">
      <origin rpy="0    0    1.57" xyz="0.015 -0.075 -0.051"/>
      <geometry>
        <mesh filename="package://crawler_robot_ros/meshes/crawler_robot_ros/arm_crawler_2.dae" scale="1.0 1.0 1.0"/>
      </geometry>
    </visual>
  </link>
  <link name="robot__left_front_arm_wheel_1">
    <inertial>
      <mass value="1.0"/>
      <origin rpy="0  0  0" xyz="0     0     0.015"/>
      <inertia ixx="6.2674773439e-04" ixy="0" ixz="0" iyy="6.2674773439e-04" iyz="0" izz="11.1919238284e-04"/>
    </inertial>
    <collision name="robot__collision">
      <origin rpy="0  0  0" xyz="0     0     0.015"/>
      <geometry>
        <cylinder length=".03" radius=".05"/>
      </geometry>
    </collision>
    <visual name="robot__visual">
      <origin rpy="0  0  0" xyz="0     0     0.015"/>
      <geometry>
        <cylinder length=".03" radius=".05"/>
      </geometry>
    </visual>
  </link>
  <link name="robot__left_front_arm_wheel_2">
    <inertial>
      <mass value="1.0"/>
      <origin rpy="0  0  0" xyz="0     0     0.015"/>
      <inertia ixx="6.2674773439e-04" ixy="0" ixz="0" iyy="6.2674773439e-04" iyz="0" izz="11.1919238284e-04"/>
    </inertial>
    <collision name="robot__collision">
      <origin rpy="0  0  0" xyz="0     0     0.015"/>
      <geometry>
        <cylinder length=".03" radius=".05"/>
      </geometry>
    </collision>
    <visual name="robot__visual">
      <origin rpy="0  0  0" xyz="0     0     0.015"/>
      <geometry>
        <cylinder length=".03" radius=".05"/>
      </geometry>
    </visual>
  </link>
  <link name="robot__left_front_arm_wheel_3">
    <inertial>
      <mass value="1.0"/>
      <origin rpy="0  0  0" xyz="0     0     0.015"/>
      <inertia ixx="6.2674773439e-04" ixy="0" ixz="0" iyy="6.2674773439e-04" iyz="0" izz="11.1919238284e-04"/>
    </inertial>
    <collision name="robot__collision">
      <origin rpy="0  0  0" xyz="0     0     0.015"/>
      <geometry>
        <cylinder length=".03" radius=".05"/>
      </geometry>
    </collision>
  </link>
</robot>
